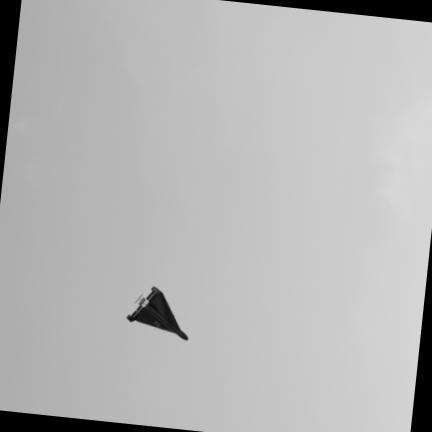Shahed: (127, 286, 188, 339)
